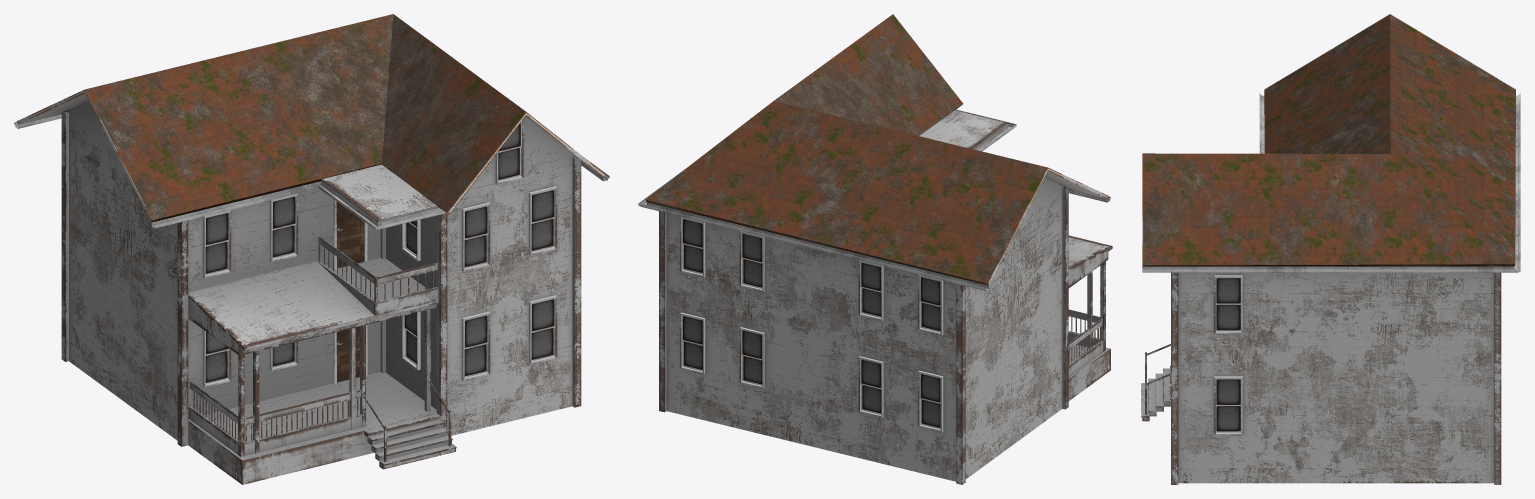
File: house.gltf
The picture shows the model from 3 angles, left to right: view 1: azimuth 30°, elevation 25°; view 2: azimuth 150°, elevation 25°; view 3: azimuth 270°, elevation 25°; orthographic projection. The views are drawn at different scales.
Parts seen in each view (by area): view 1: BaseHouse.010 (×2); view 2: BaseHouse.010 (×2); view 3: BaseHouse.010 (×2).
Boxes of the visible parts, x1,y1,x2,y2 form: BaseHouse.010 (×2): (14, 14, 609, 484); BaseHouse.010 (×2): (638, 14, 1112, 484); BaseHouse.010 (×2): (1141, 14, 1520, 484).
Bounding box in the file's own units: 10.79 × 8.5 × 9.76.
Materials: 2 (2 with a texture image).
